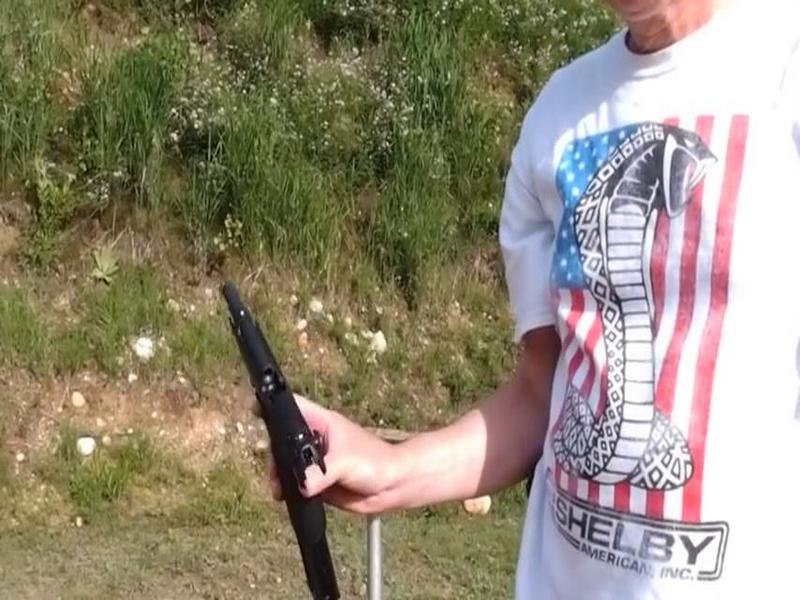Pistola: (187, 273, 380, 600)
